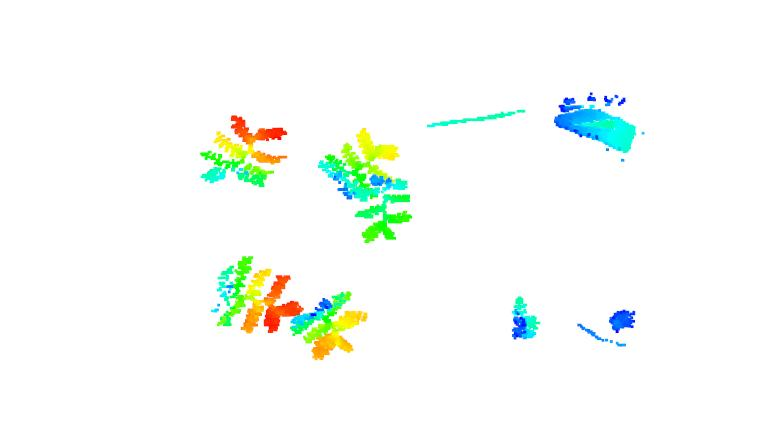chickpea: (210, 252, 307, 335), (198, 113, 289, 185), (317, 130, 397, 194), (293, 291, 367, 360), (353, 175, 412, 242), (508, 295, 541, 343)
